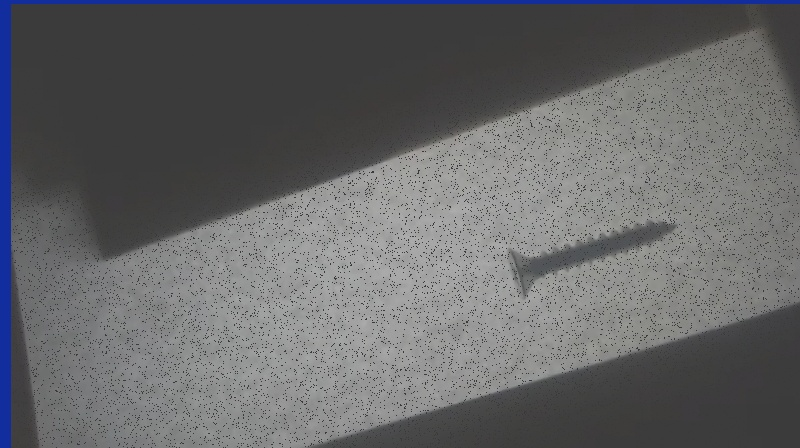S001: (503, 216, 685, 303)
